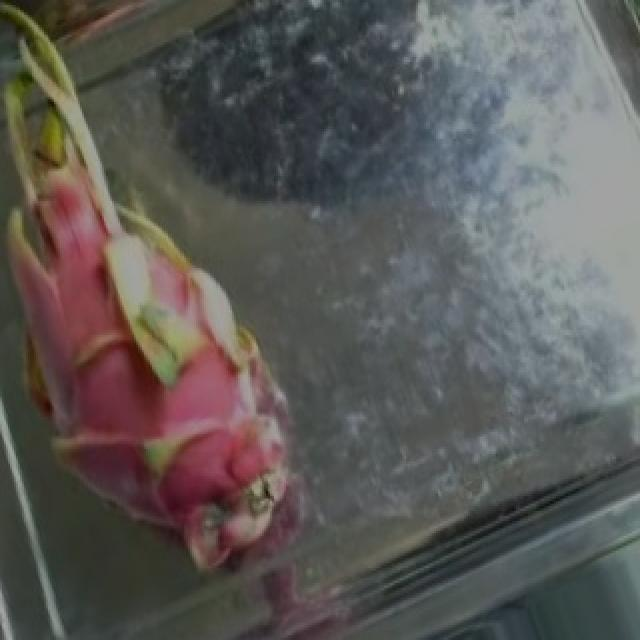fruit: (0, 35, 334, 496)
